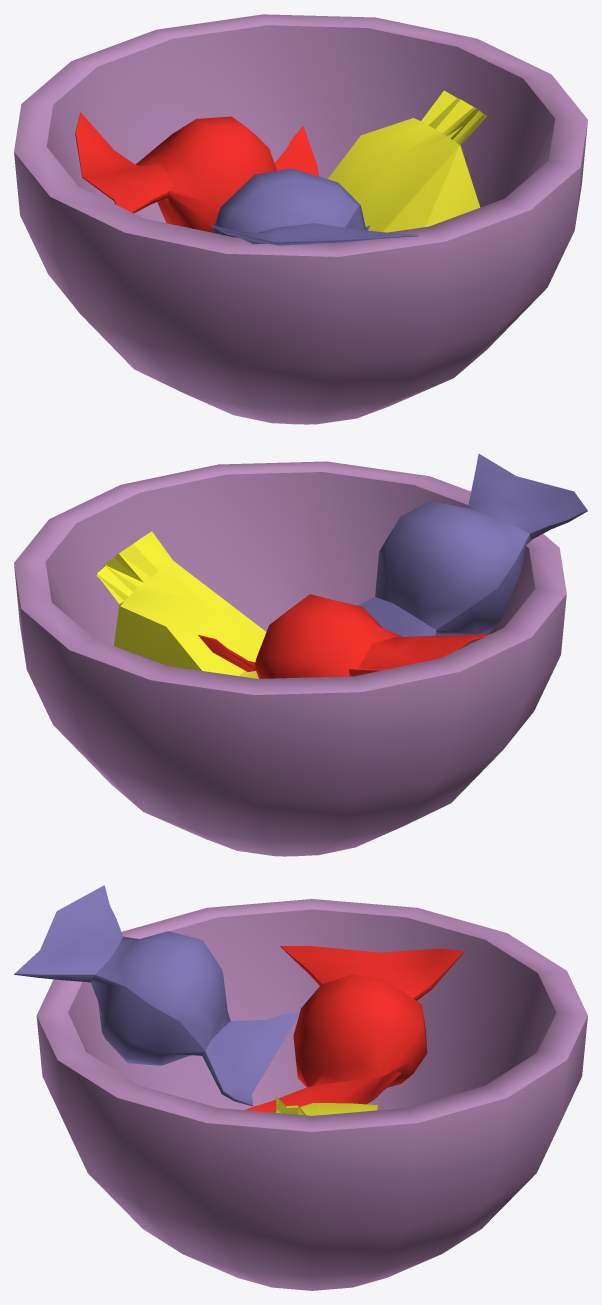
The model's file is SM_Candies.fbx.
3 renders of one model, top to bottom at view 1: azimuth 30°, elevation 25°; view 2: azimuth 150°, elevation 25°; view 3: azimuth 270°, elevation 25°, orthographic. The views are drawn at different scales.
Visible parts, largest first — view 1: SM_Candies_LOD0; view 2: SM_Candies_LOD0; view 3: SM_Candies_LOD0.
Part boxes in pixels (left/top/right/bottom): SM_Candies_LOD0: left=14, top=14, right=587, bottom=424; SM_Candies_LOD0: left=14, top=453, right=587, bottom=856; SM_Candies_LOD0: left=14, top=885, right=587, bottom=1290.
Size of the model in its own units: 23.9 by 24.88 by 13.9.
Materials: 1 (1 with a texture image).
